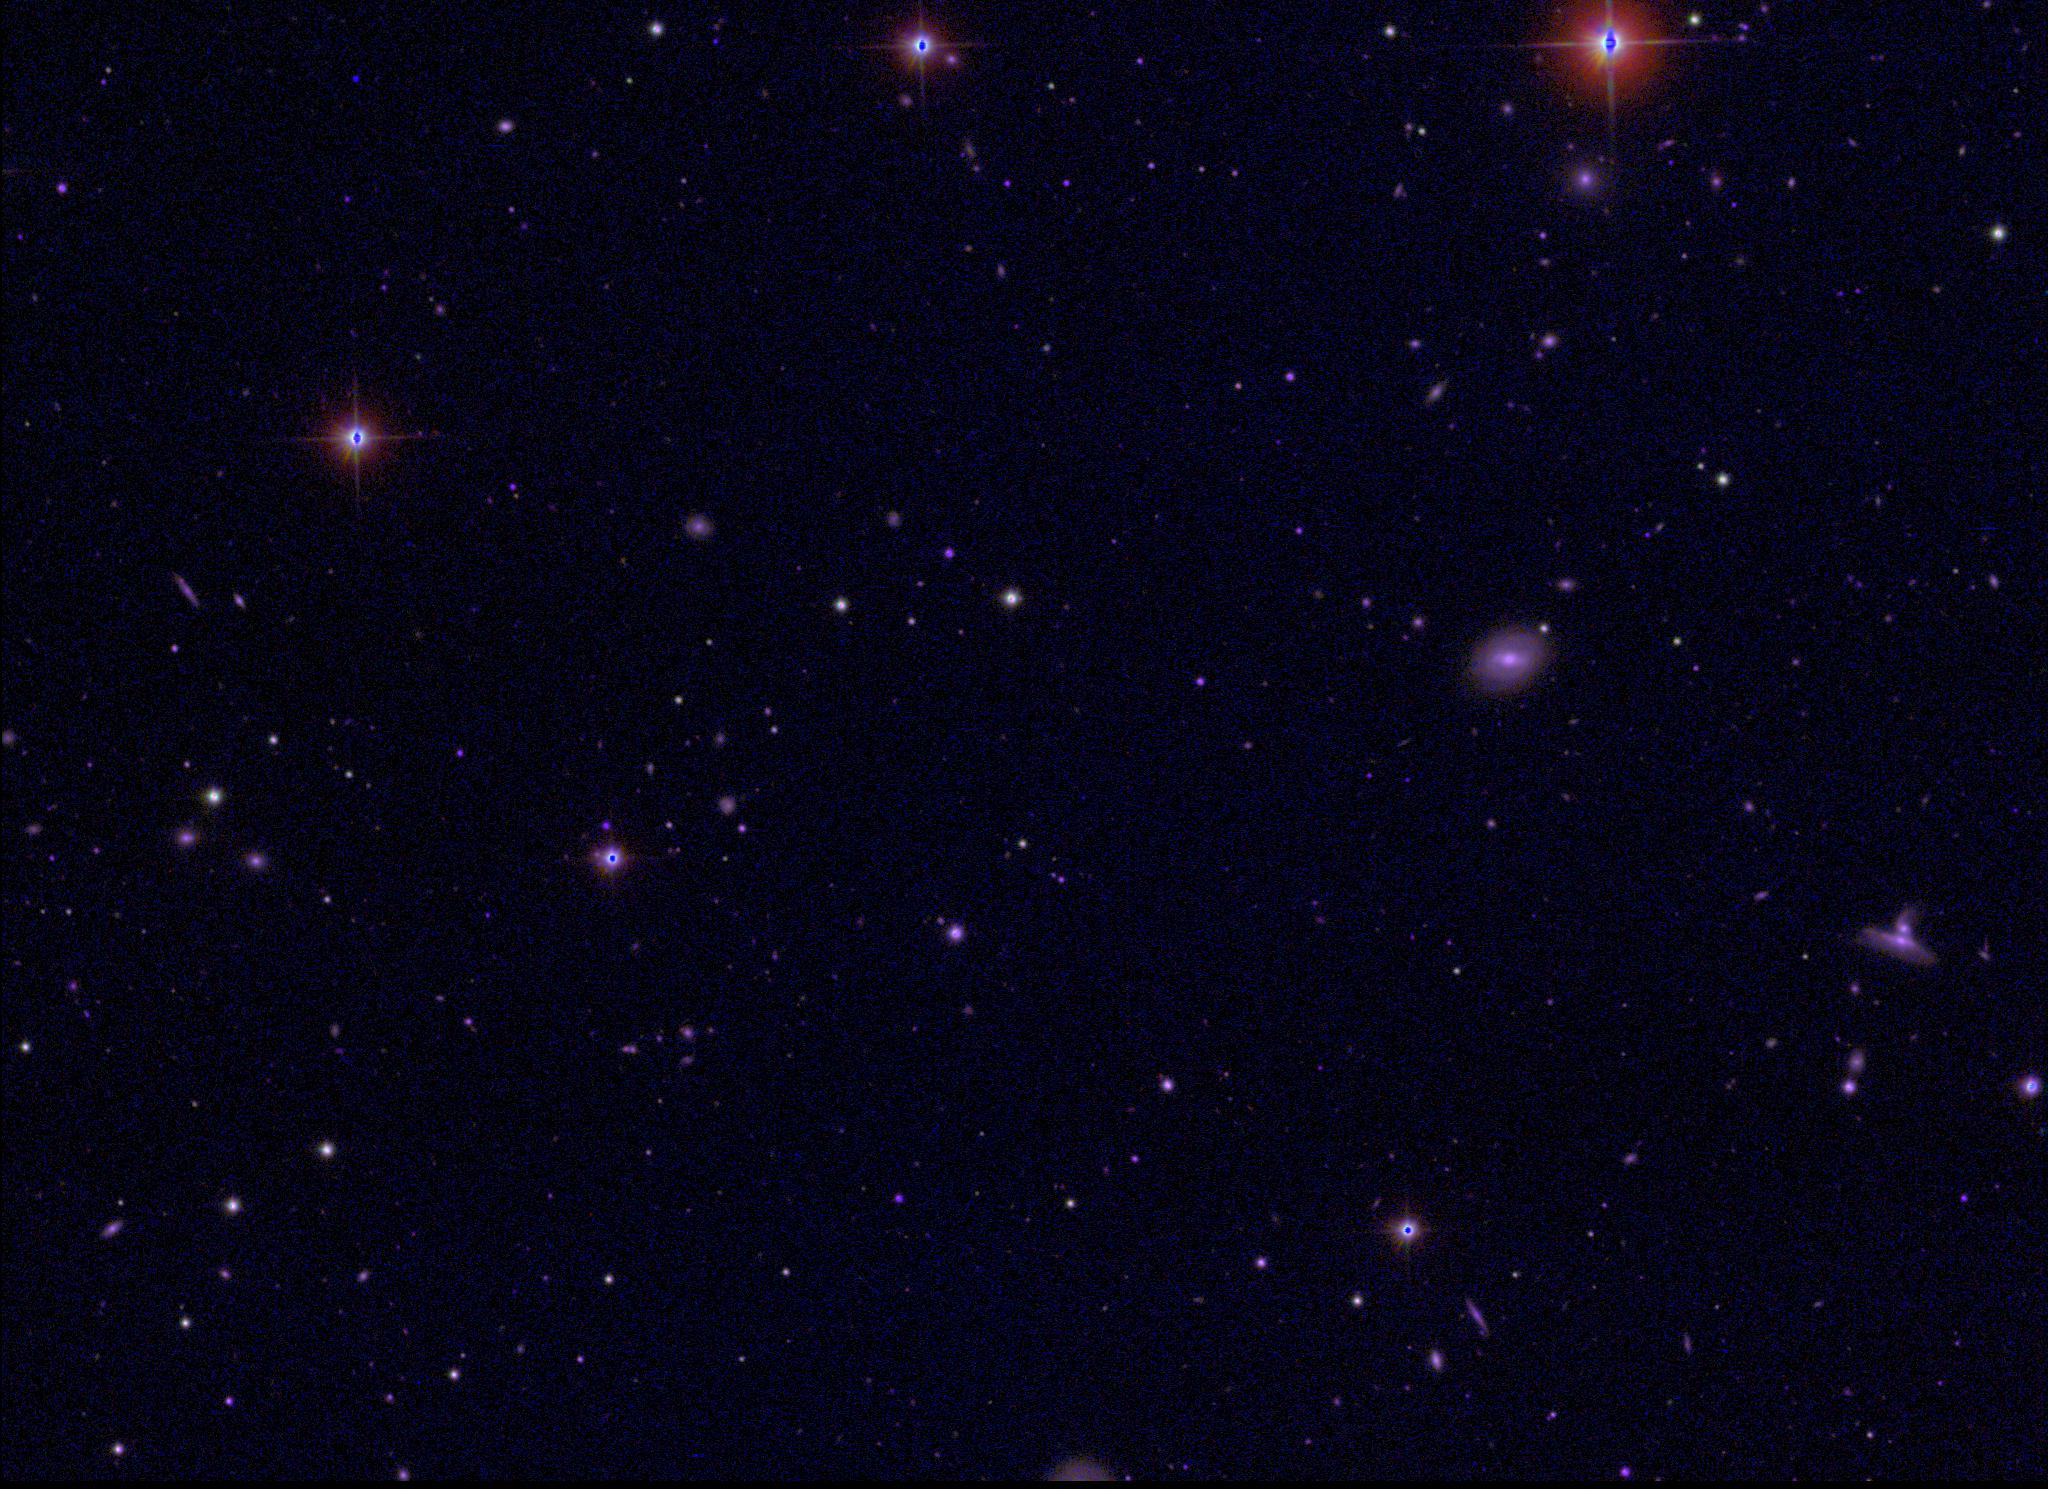L: (347, 68, 359, 83)
